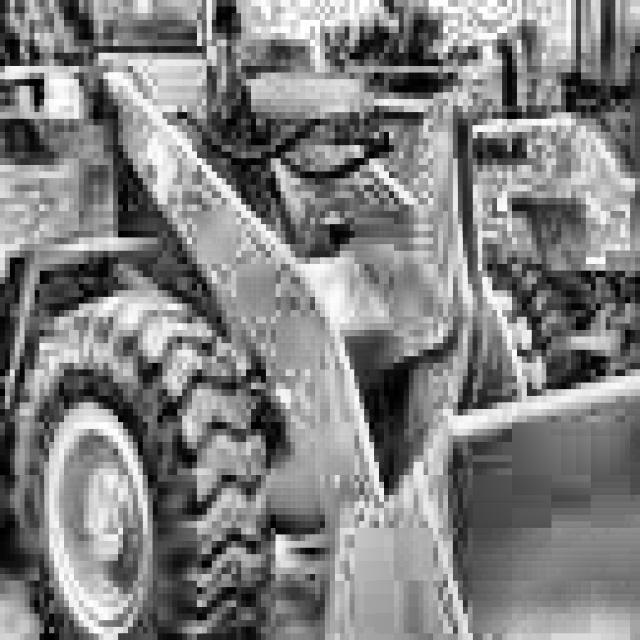buldozerpayloadergrader: (0, 0, 640, 640), (443, 0, 640, 548)
